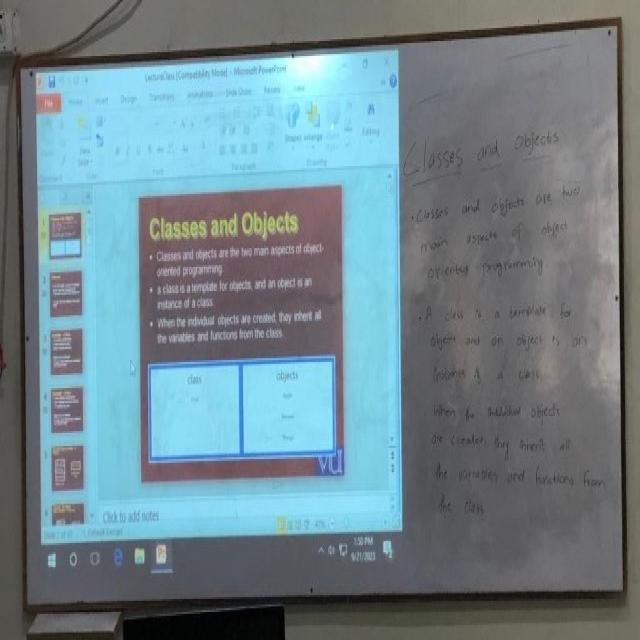Slide: (36, 50, 403, 585)
White-board: (17, 28, 627, 601)
